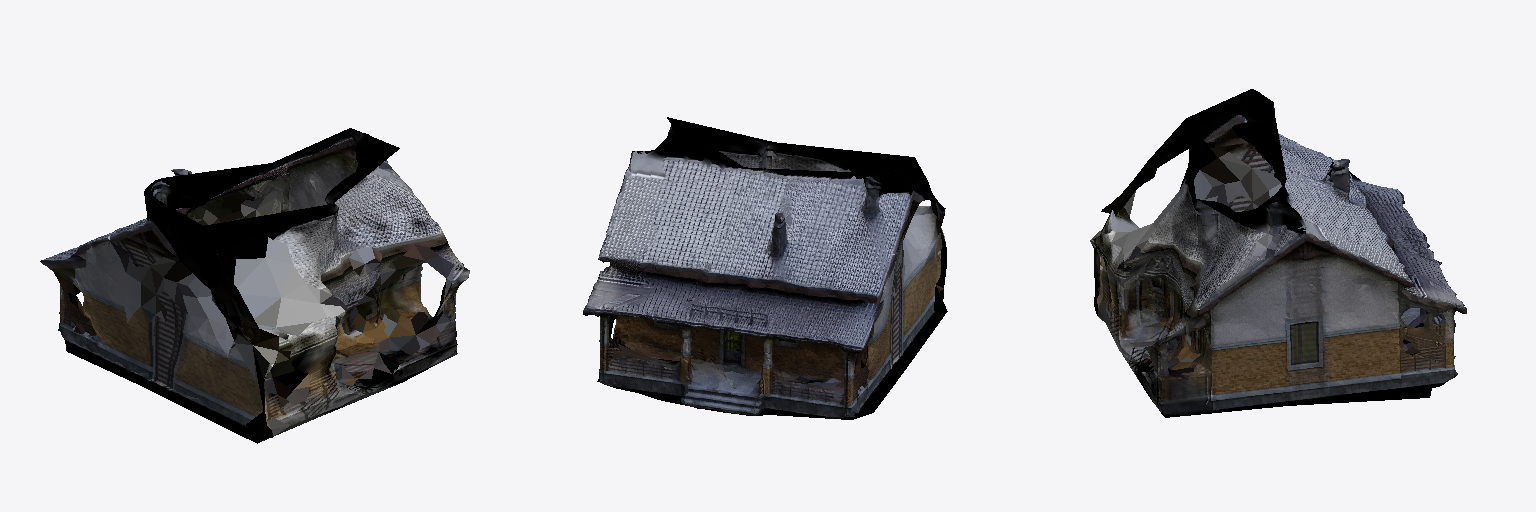
3 views of the same model, side by side, from view 1: azimuth 30°, elevation 25°; view 2: azimuth 150°, elevation 25°; view 3: azimuth 270°, elevation 25° (orthographic).
Size of the model in its own units: 14.64 by 9.64 by 15.49.
1 materials, 1 textured.